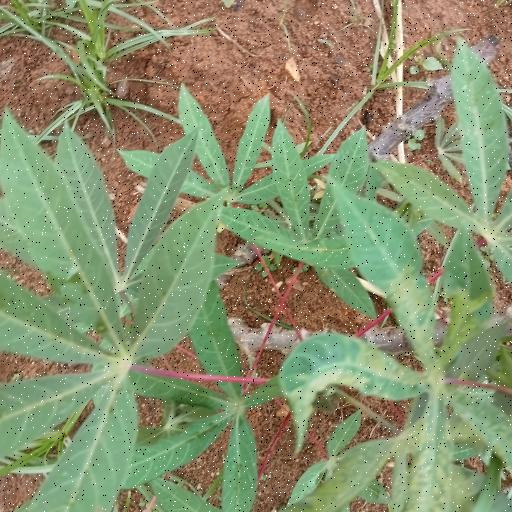Cassava_Mosaic: (2, 115, 223, 512), (291, 182, 512, 512)
